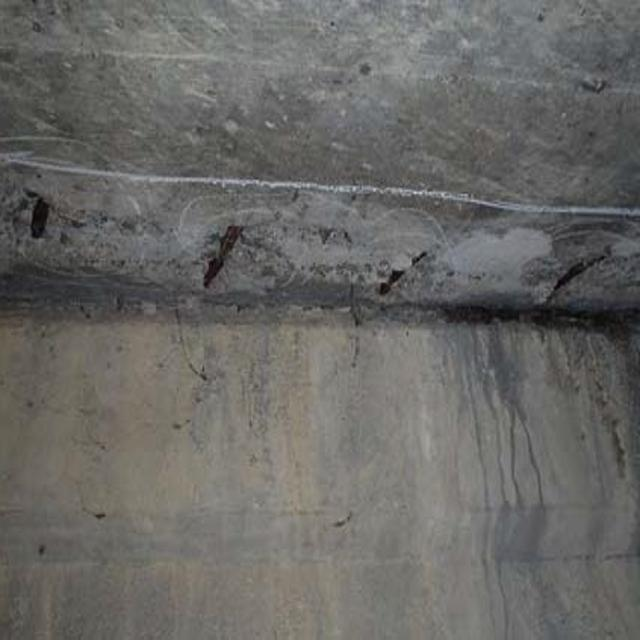spalling: (17, 164, 640, 343)
